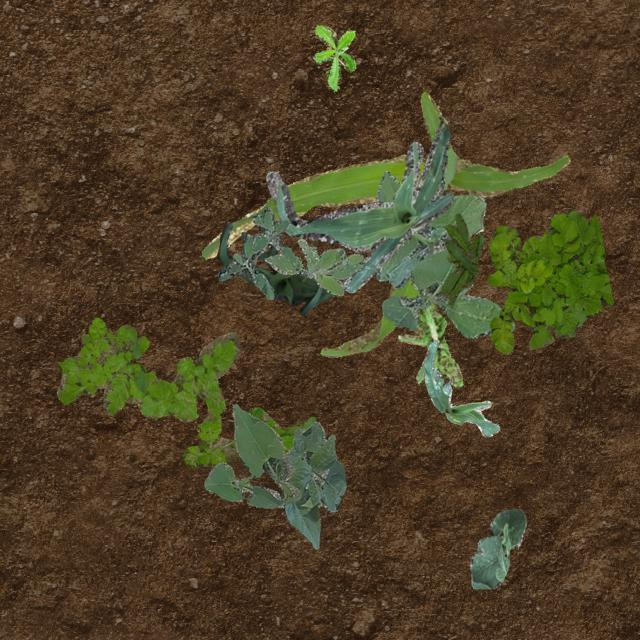crop: (201, 90, 568, 357), (266, 124, 452, 292), (203, 403, 344, 548), (215, 222, 332, 314), (422, 340, 498, 436), (470, 508, 524, 588)
weed: (56, 330, 240, 468), (374, 170, 514, 336), (487, 208, 612, 352), (74, 316, 166, 414), (216, 205, 298, 298), (396, 303, 462, 387), (264, 238, 362, 294), (440, 212, 482, 306), (246, 407, 316, 452), (312, 24, 354, 90)
